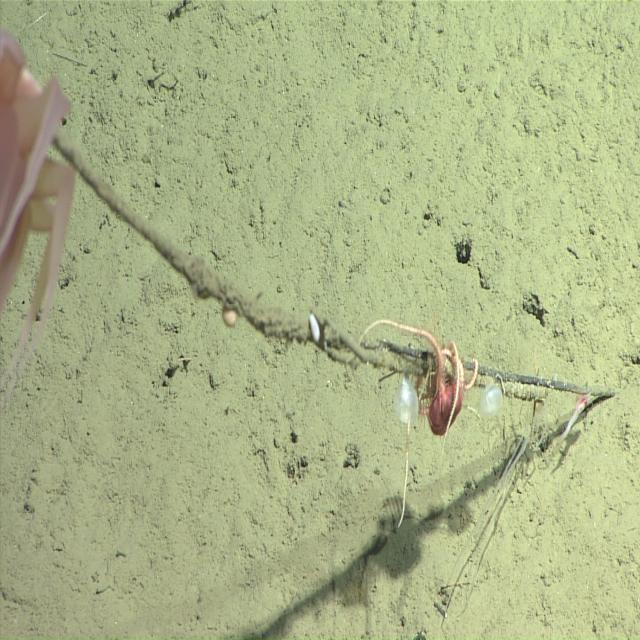Brittle Star: (358, 305, 477, 529)
